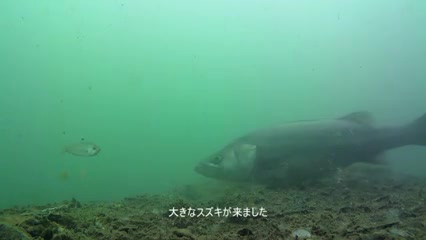azi: (68, 141, 108, 157)
suzuki: (192, 107, 411, 185)
